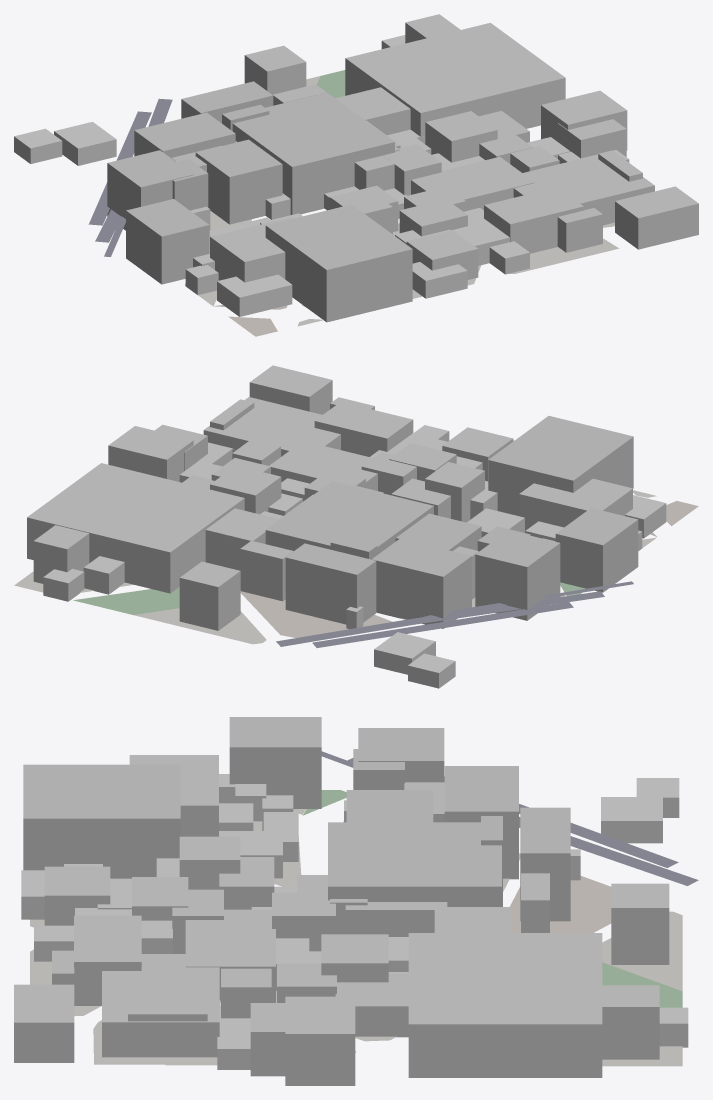
File: 112_97_mid.glb
3 views of the same model, one above another, from view 1: azimuth 30°, elevation 25°; view 2: azimuth 150°, elevation 25°; view 3: azimuth 270°, elevation 25° (orthographic). The views are drawn at different scales.
Bounding box in the file's own units: 586 × 60.64 × 525.
